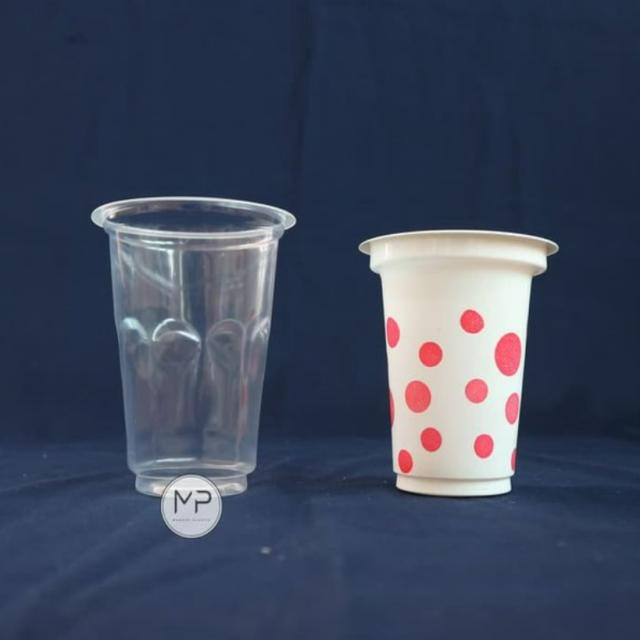GelasPlastik: (90, 194, 296, 498), (357, 228, 560, 498)
